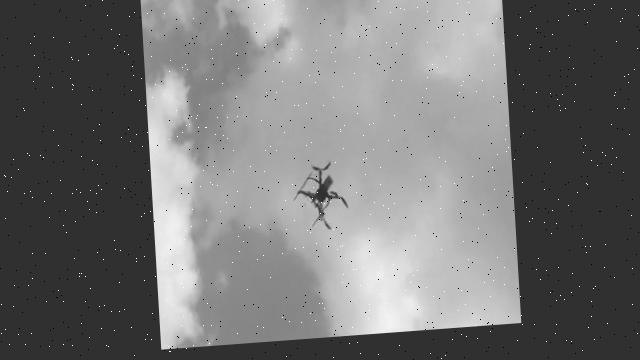drone: (289, 161, 351, 235)
